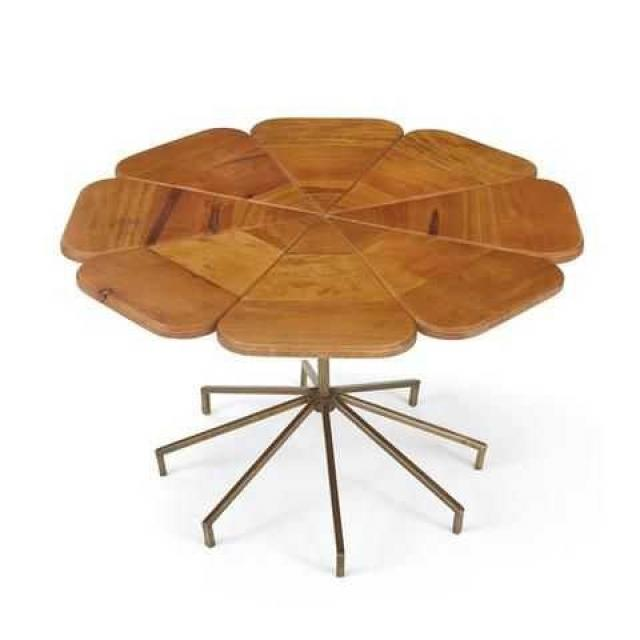table: (59, 93, 589, 590)
